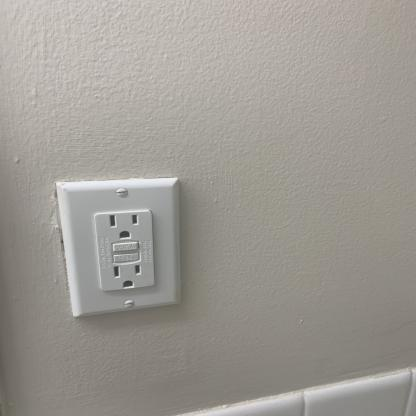OUTLET: (55, 181, 183, 311)
